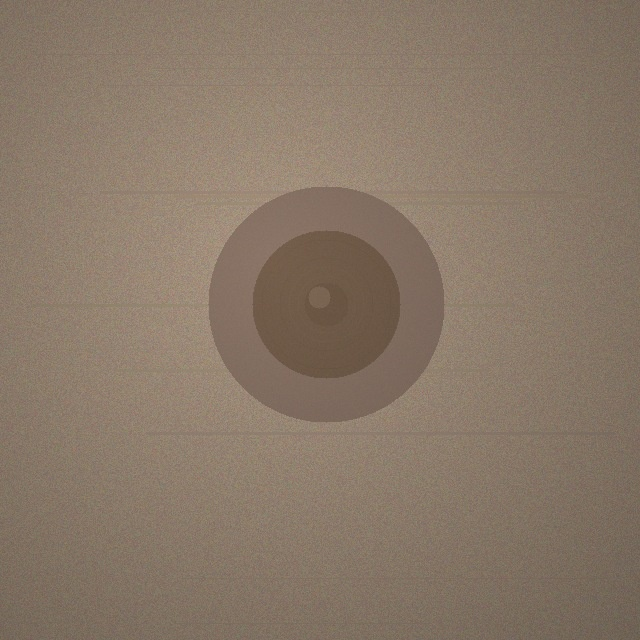good: (208, 186, 444, 422)
